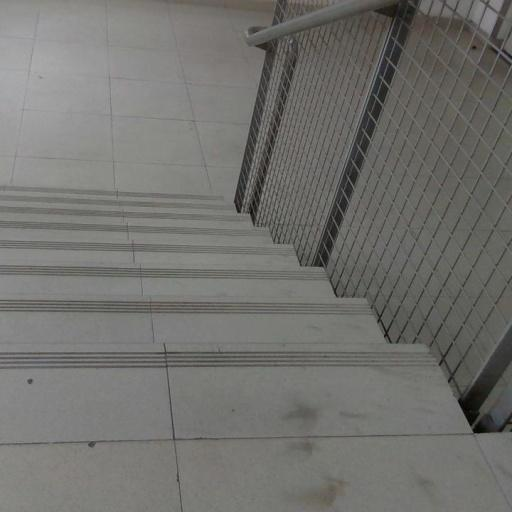stairs: (0, 187, 509, 511)
